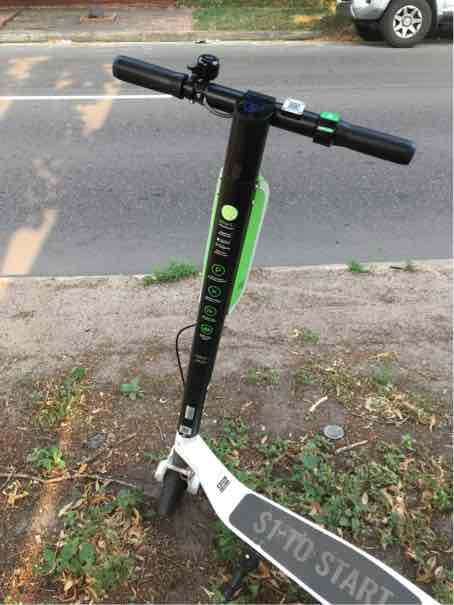scooter: (100, 60, 442, 605)
